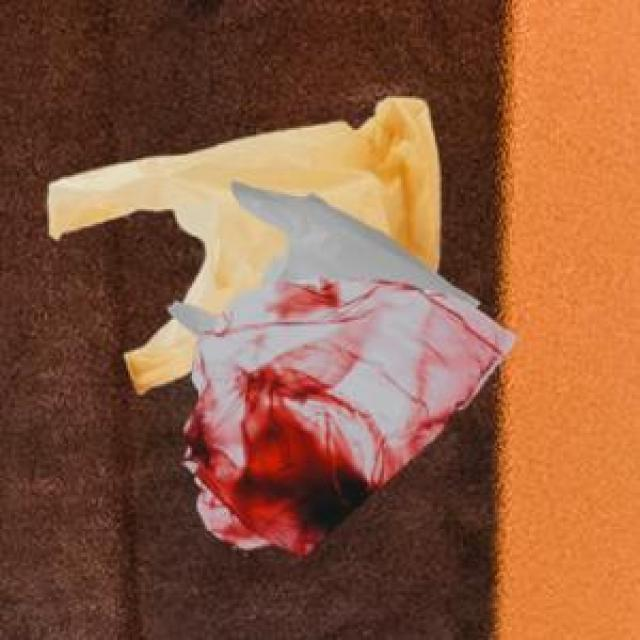waste: (49, 99, 514, 554)
